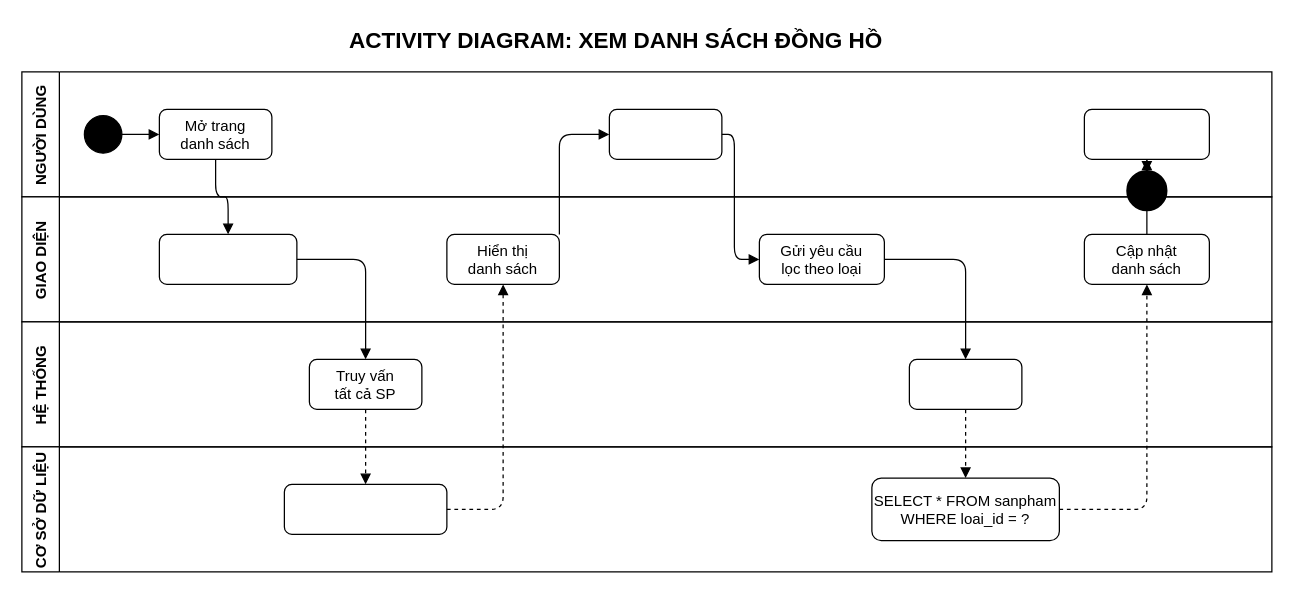
The diagram is 1294 pixels wide and 594 high, and some of its shapes have lost their labels. Each missing label, with the centre of its shape:
"Chọn loại đồng hồ" goes at point 665,133.
"Gửi yêu cầu load danh sách" goes at point 227,258.
"SELECT * FROM sanpham" goes at point 365,508.
"Truy vấn theo loại" goes at point 965,383.
"Xem sản phẩm hiển thị" goes at point 1146,133.
